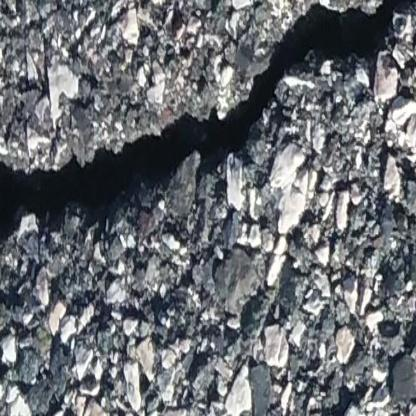Cracks: (0, 0, 416, 268)
